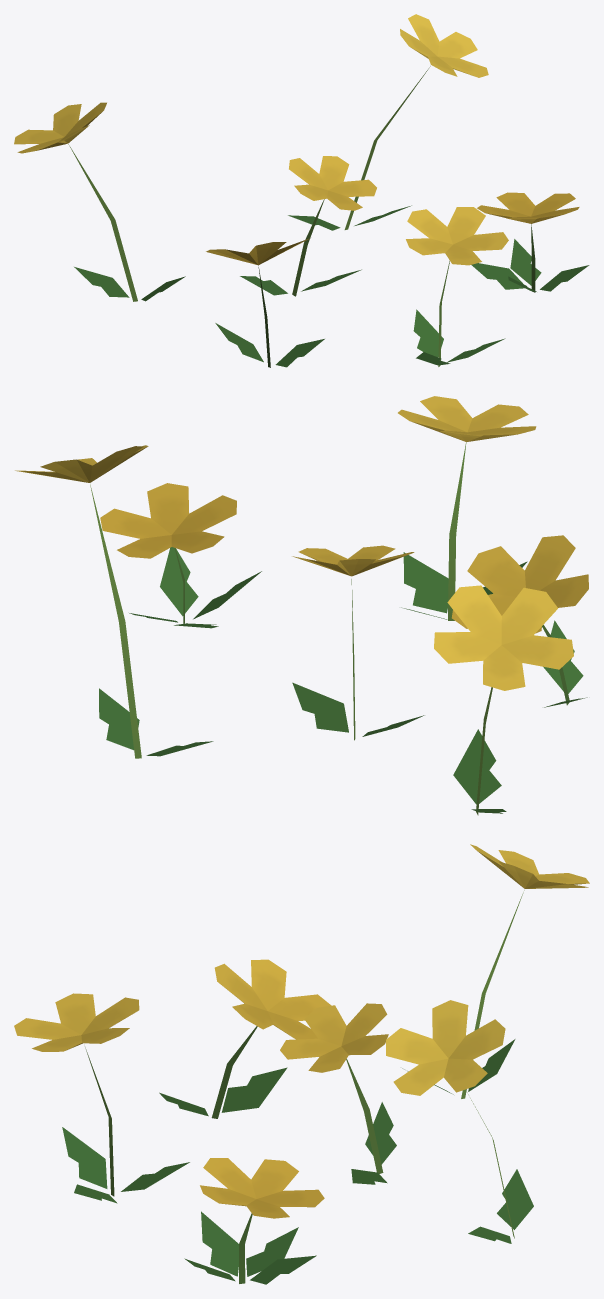
File: flower_scatter_1.glb
3 views of the same model, one above another, from view 1: azimuth 30°, elevation 25°; view 2: azimuth 150°, elevation 25°; view 3: azimuth 270°, elevation 25° (orthographic). The views are drawn at different scales.
Visible parts, largest first — view 1: flower_scatter_1; view 2: flower_scatter_1; view 3: flower_scatter_1.
Part boxes in pixels (x1=…): flower_scatter_1: x1=14, y1=14, x2=589, y2=367; flower_scatter_1: x1=15, y1=396, x2=588, y2=815; flower_scatter_1: x1=14, y1=844, x2=589, y2=1284.
Bounding box in the file's own units: 0.5 × 0.22 × 0.45.
2 materials, 2 textured.
